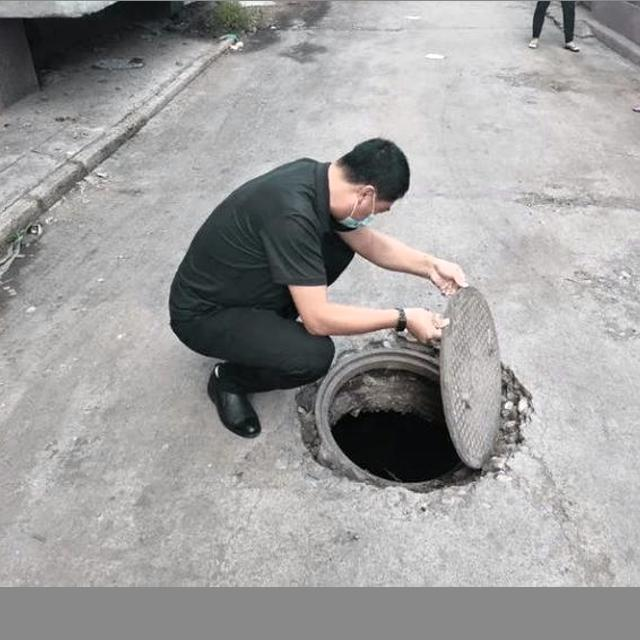circle: (252, 302, 553, 513)
